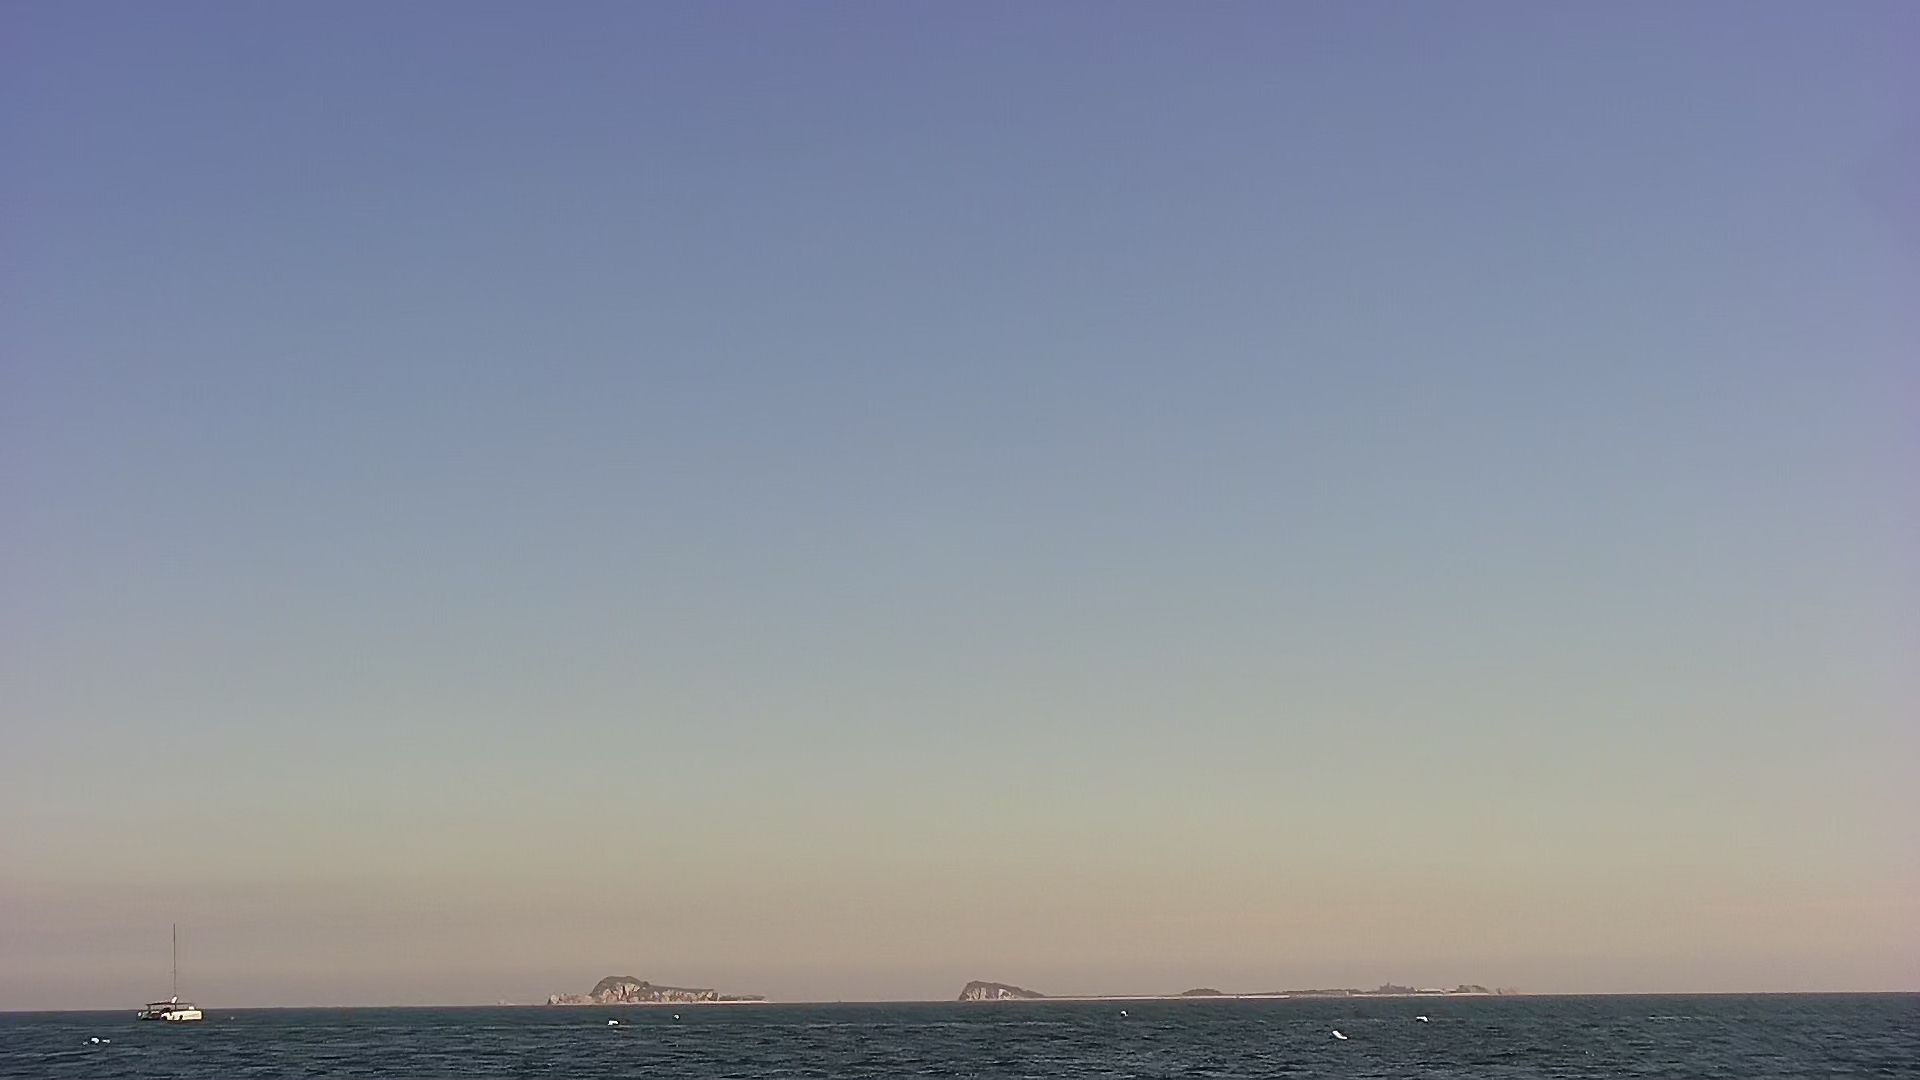boat: (127, 984, 210, 1021)
rock: (538, 975, 767, 1006), (1294, 980, 1499, 1002), (951, 978, 1055, 1000), (1174, 981, 1240, 997)
rubbish: (1399, 1010, 1447, 1027), (1324, 1018, 1358, 1038), (73, 1033, 112, 1048)
